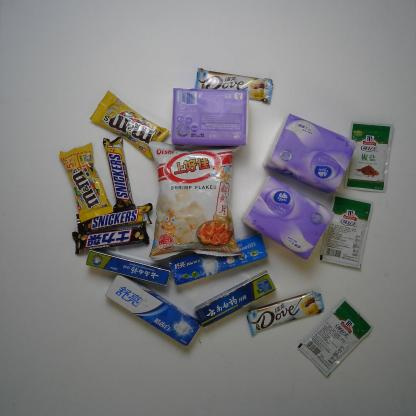Chocolate: (88, 90, 169, 162), (59, 143, 114, 222), (246, 292, 325, 336), (99, 136, 137, 214), (194, 67, 274, 104), (75, 203, 154, 234), (72, 223, 151, 254)
Personal Hygiene: (106, 275, 200, 348), (169, 230, 268, 282), (194, 270, 276, 328), (85, 246, 171, 287)
Puffed Food: (144, 142, 243, 260)
Seasoner: (298, 296, 373, 375), (320, 194, 374, 269), (344, 122, 395, 192)
Tissue: (263, 113, 358, 195), (242, 177, 334, 260), (172, 88, 250, 148)
